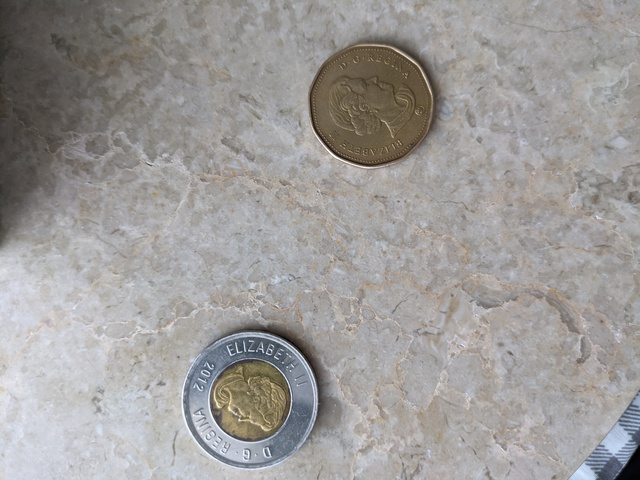loonie: (290, 28, 449, 167)
twonie: (163, 323, 327, 473)
